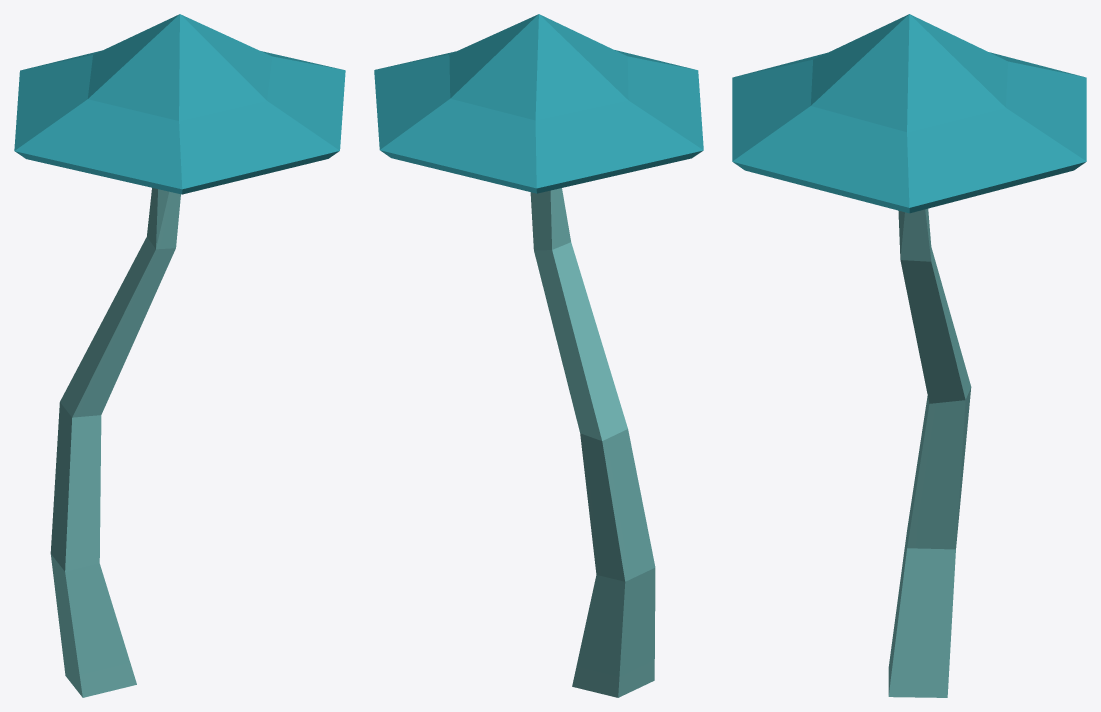
Rendered from Mushroom-C05.fbx.
3 views of the same model, side by side, from view 1: azimuth 30°, elevation 25°; view 2: azimuth 150°, elevation 25°; view 3: azimuth 270°, elevation 25° (orthographic). The views are drawn at different scales.
Visible parts, largest first — view 1: Mushroom-C05; view 2: Mushroom-C05; view 3: Mushroom-C05.
Part boxes in pixels (<box>): Mushroom-C05: <box>14,14,345,697</box>; Mushroom-C05: <box>374,14,703,697</box>; Mushroom-C05: <box>732,14,1086,697</box>.
Size of the model in its own units: 56.58 by 106 by 48.01.
